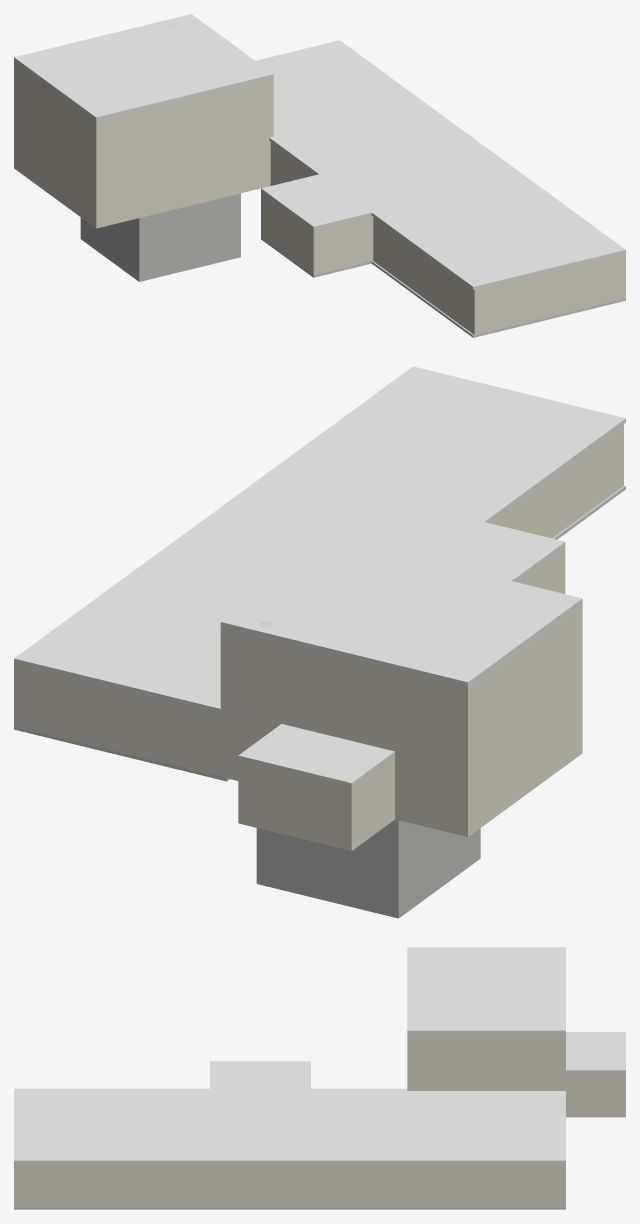
The model's file is reactor_hall.glb.
3 renders of one model, top to bottom at view 1: azimuth 30°, elevation 25°; view 2: azimuth 150°, elevation 25°; view 3: azimuth 270°, elevation 25°, orthographic. The views are drawn at different scales.
Visible parts, largest first — view 1: Basement_Ceiling, Walls, Basement_Walls, Ceiling, ShieldBlock_BelowFloor, Basement_Floor; view 2: Basement_Ceiling, Walls, Ceiling, Basement_Walls, ShieldBlock_BelowFloor, Basement_Floor; view 3: Basement_Ceiling, Basement_Walls, Ceiling, Walls, Basement_Floor.
Part boxes in pixels (bbox=[...]): Basement_Ceiling: bbox=[255, 40, 625, 289]; Walls: bbox=[14, 62, 273, 228]; Basement_Walls: bbox=[261, 142, 625, 335]; Ceiling: bbox=[14, 14, 273, 121]; ShieldBlock_BelowFloor: bbox=[80, 193, 240, 281]; Basement_Floor: bbox=[261, 237, 625, 337]; Basement_Ceiling: bbox=[14, 366, 625, 714]; Walls: bbox=[220, 605, 582, 850]; Ceiling: bbox=[220, 538, 582, 787]; Basement_Walls: bbox=[14, 424, 623, 776]; ShieldBlock_BelowFloor: bbox=[256, 819, 480, 918]; Basement_Floor: bbox=[14, 486, 625, 781]; Basement_Ceiling: bbox=[14, 1061, 565, 1163]; Basement_Walls: bbox=[14, 1163, 565, 1207]; Ceiling: bbox=[407, 947, 625, 1073]; Walls: bbox=[407, 1032, 625, 1117]; Basement_Floor: bbox=[14, 1207, 565, 1209].
Size of the model in its own units: 22.4 by 12.47 by 37.8.
